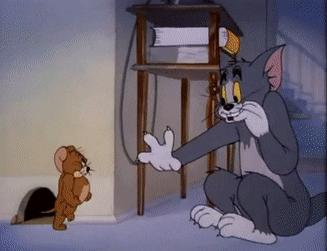jerry: (40, 145, 94, 232)
